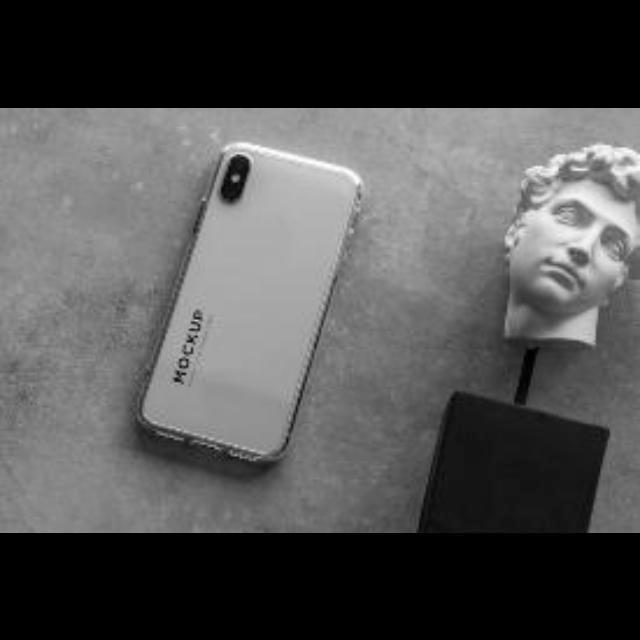fake: (124, 123, 372, 487)
